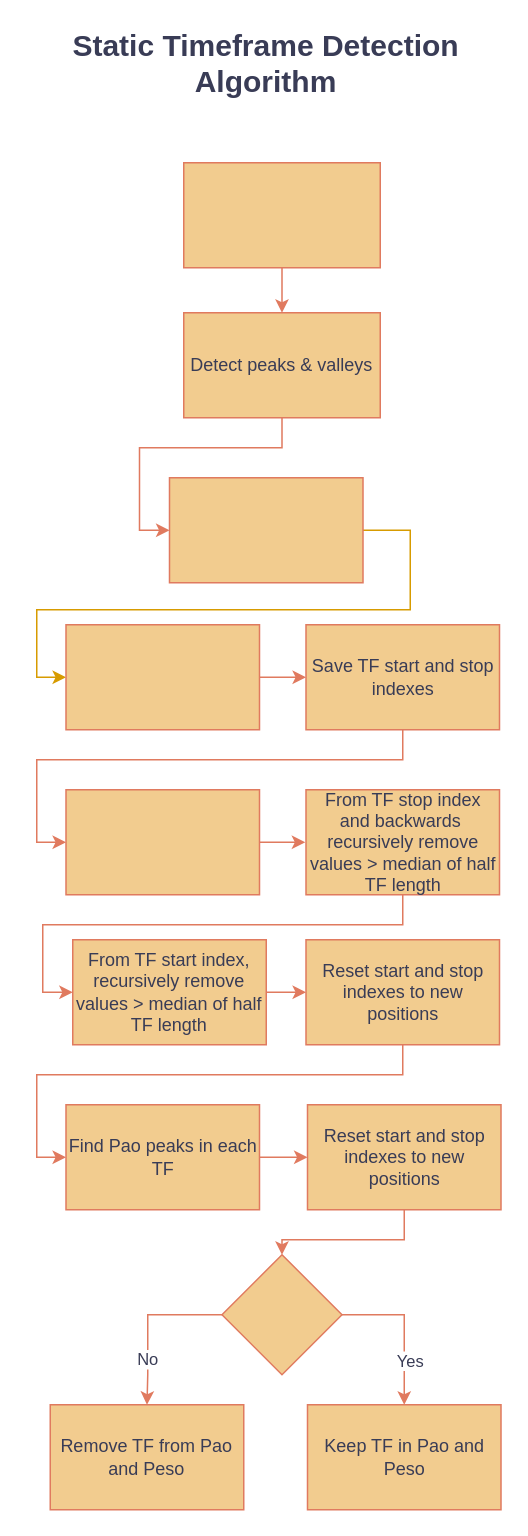
This 528x1536 diagram has some shape labels left out. The centre of each missing label's shape, as x and y in pixels:
"Detect TF with peaks >5s apart" belongs at (x=265, y=529).
"Filter TF with peak height > threshold" belongs at (x=162, y=676).
"Load patient data" belongs at (x=281, y=214).
"Pao peak in TF" belongs at (x=281, y=1314).
"Reduce all values below threshold" belongs at (x=162, y=841).
